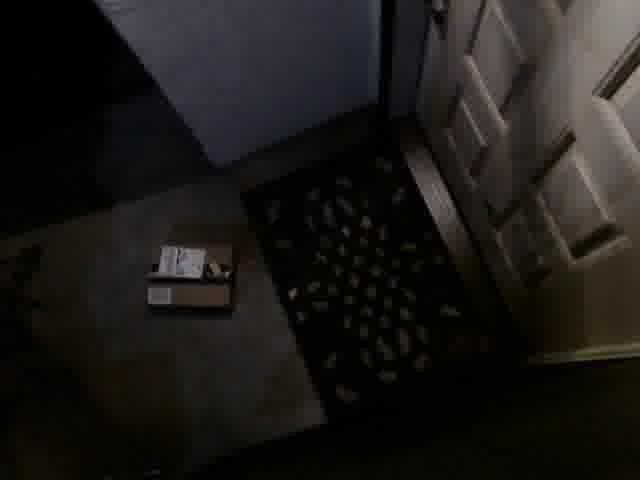box: (144, 239, 238, 315)
